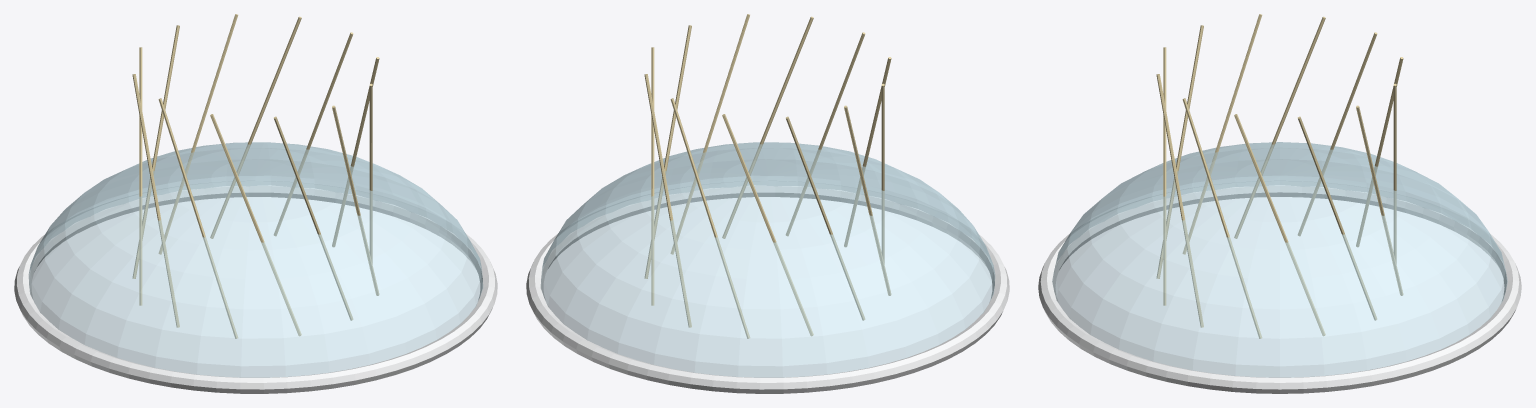
The model's file is reef-dome.glb.
3 views of the same model, side by side, from view 1: azimuth 30°, elevation 25°; view 2: azimuth 150°, elevation 25°; view 3: azimuth 270°, elevation 25° (orthographic).
Parts seen in each view (by area): view 1: Sphere.015, Torus.225, Cylinder.019; view 2: Sphere.015, Torus.225, Cylinder.019; view 3: Sphere.015, Torus.225, Cylinder.019.
Part boxes in pixels (<box>): Sphere.015: <box>28,142,483,377</box>; Torus.225: <box>14,181,497,393</box>; Cylinder.019: <box>132,14,379,338</box>; Sphere.015: <box>540,142,995,377</box>; Torus.225: <box>526,181,1009,393</box>; Cylinder.019: <box>644,14,891,338</box>; Sphere.015: <box>1052,142,1507,377</box>; Torus.225: <box>1038,181,1521,393</box>; Cylinder.019: <box>1156,14,1403,338</box>.
Bounding box in the file's own units: 33.6 × 17.6 × 33.6.
